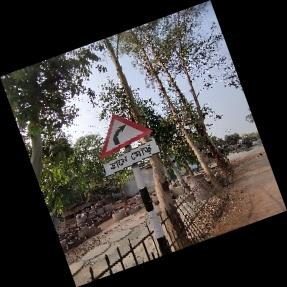Right-turn: (98, 114, 160, 179)
